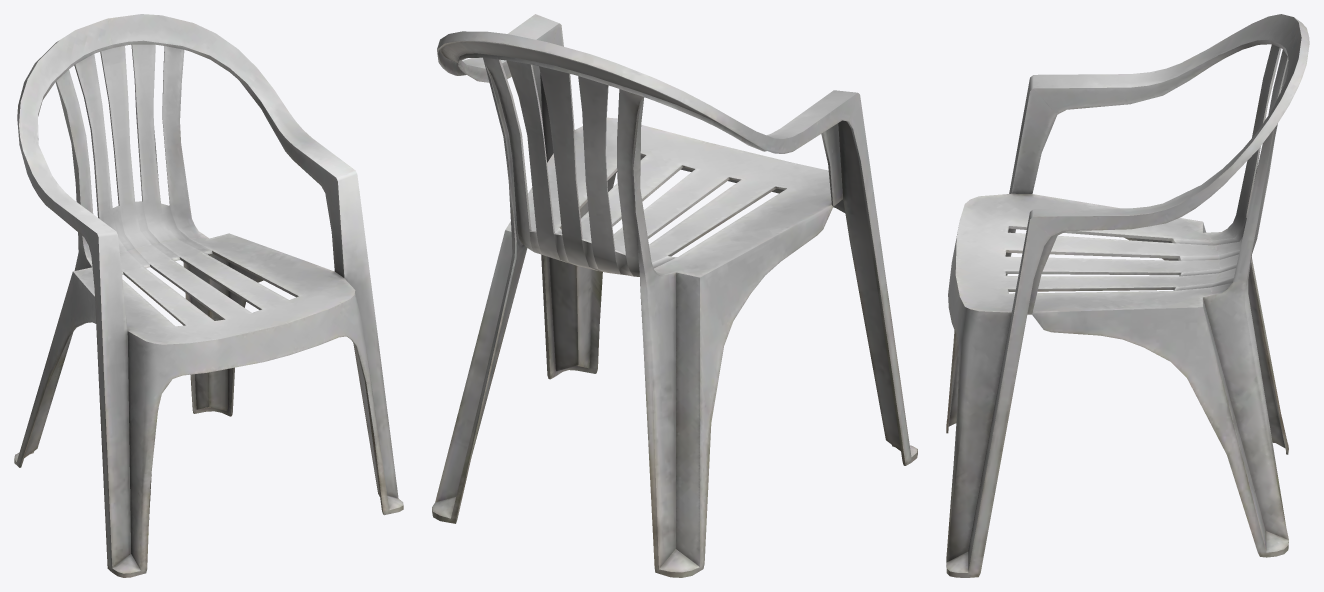
Rendered from plastic_monobloc_chair_01.glb.
3 renders of one model, left to right at view 1: azimuth 30°, elevation 25°; view 2: azimuth 150°, elevation 25°; view 3: azimuth 270°, elevation 25°, orthographic. The views are drawn at different scales.
Parts seen in each view (by area): view 1: plastic_monobloc_chair_01; view 2: plastic_monobloc_chair_01; view 3: plastic_monobloc_chair_01.
Boxes of the visible parts, x1=… form: plastic_monobloc_chair_01: x1=14, y1=14, x2=403, y2=577; plastic_monobloc_chair_01: x1=432, y1=14, x2=917, y2=577; plastic_monobloc_chair_01: x1=946, y1=14, x2=1309, y2=577.
Bounding box in the file's own units: 0.6419 × 0.8798 × 0.6276.
Materials: 1 (1 with a texture image).
